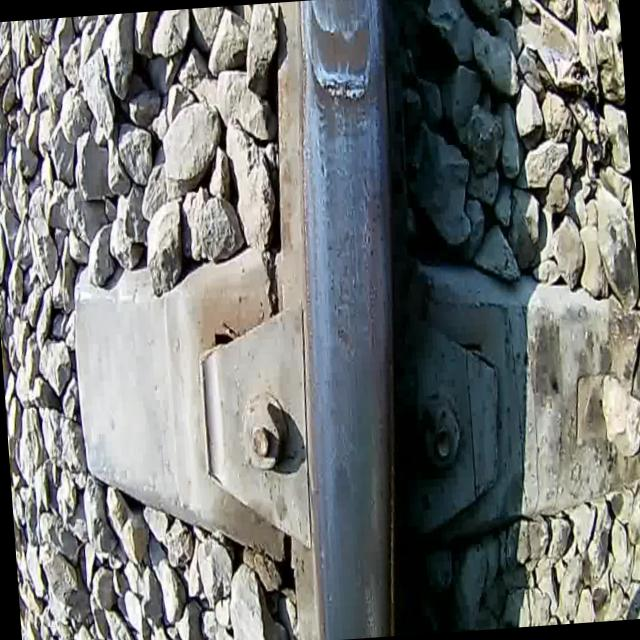Squats: (293, 0, 396, 146)
